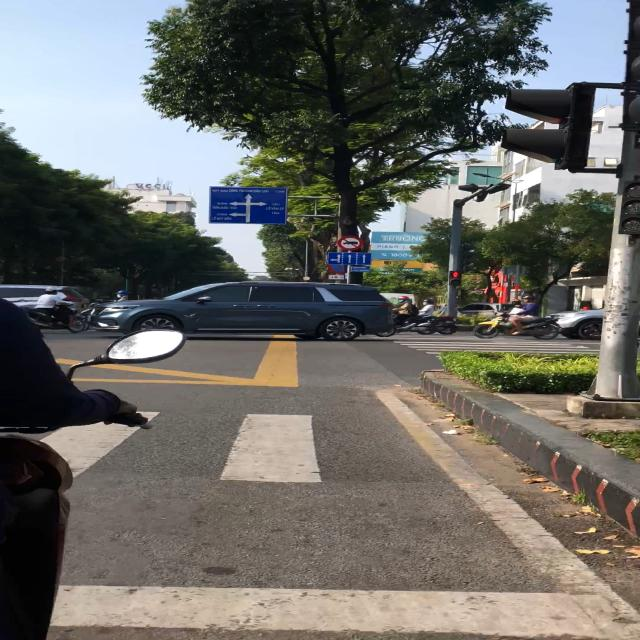Bien bao cam xe so-mi ro-mooc: (334, 234, 368, 252)
